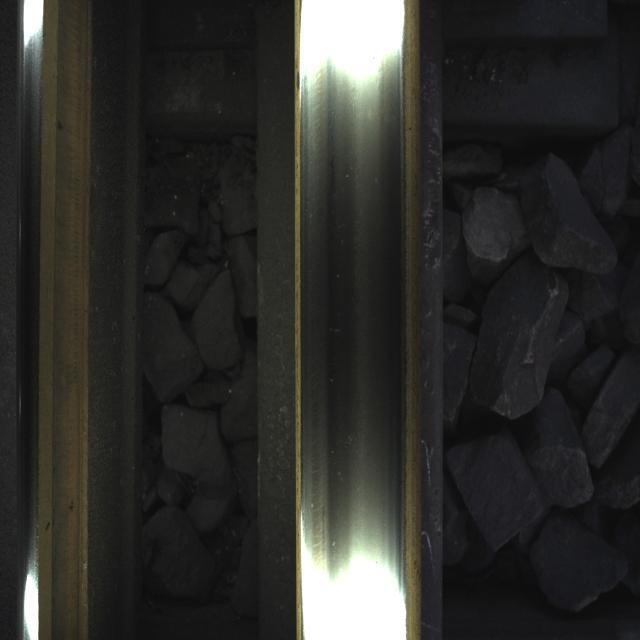break: (295, 28, 416, 602)
